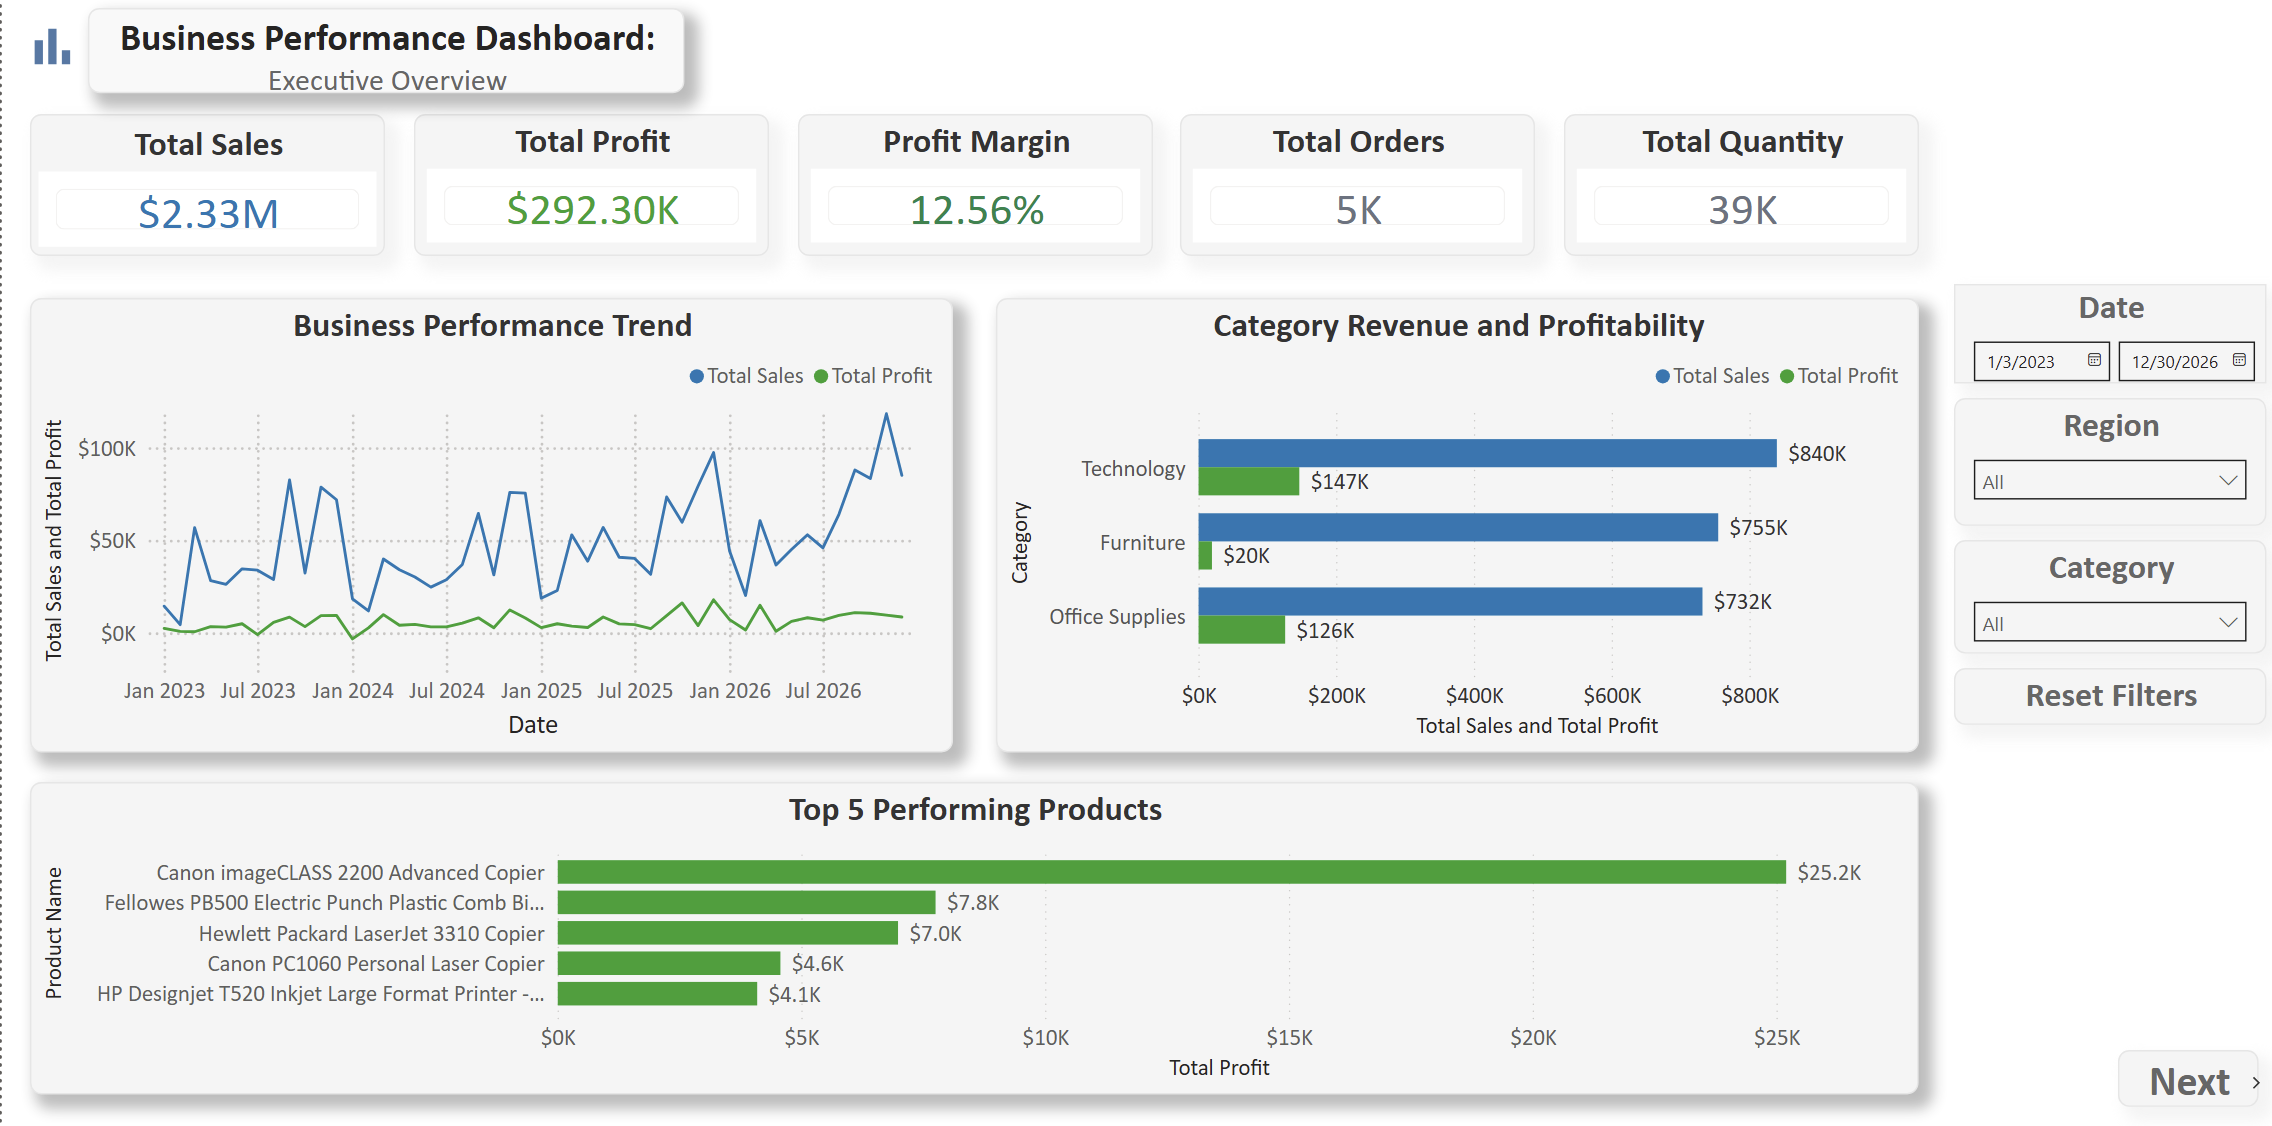

The dashboard page shown, as its layout file describes it:
{"tool":"powerbi","page":{"name":"Executive Overview","canvas":[1600,800],"ordinal":0},"visuals":[{"type":"cardVisual","title":"Total Sales","fields":{"Data":["samplesuperstore.Total Sales"]},"box":[20,80,250,100],"z":0},{"type":"cardVisual","title":"Total Profit","fields":{"Data":["samplesuperstore.Total Profit"]},"box":[290,80,250,100],"z":1000},{"type":"cardVisual","title":"Profit Margin","fields":{"Data":["samplesuperstore.Profit Margin"]},"box":[560,80,250,100],"z":2000},{"type":"cardVisual","title":"Total Orders","fields":{"Data":["samplesuperstore.Total Orders"]},"box":[830,80,250,100],"z":3000},{"type":"cardVisual","title":"Total Quantity","fields":{"Data":["samplesuperstore.Total Quantity"]},"box":[1100,80,250,100],"z":4000},{"type":"lineChart","title":"Business Performance Trend","fields":{"Y":["samplesuperstore.Total Sales","samplesuperstore.Total Profit"],"Category":["samplesuperstore.Order Date.Variation.Date Hierarchy.Year","samplesuperstore.Order Date.Variation.Date Hierarchy.Month"]},"box":[20,210,650,320],"z":5000},{"type":"clusteredBarChart","title":"Category Revenue and Profitability","fields":{"Category":["samplesuperstore.Category"],"Y":["samplesuperstore.Total Sales","samplesuperstore.Total Profit"]},"box":[700,210,650,320],"z":6000},{"type":"slicer","title":"Date","fields":{"Values":["samplesuperstore.Order Date"]},"box":[1375,200,220,70],"z":7000},{"type":"slicer","title":"Region","fields":{"Values":["samplesuperstore.Region"]},"box":[1375,280,220,90],"z":8000},{"type":"slicer","title":"Category","fields":{"Values":["samplesuperstore.Category"]},"box":[1375,380,220,80],"z":9000},{"type":"textbox","title":"Business Performance Dashboard:","box":[60,5,420,60],"z":10000},{"type":"actionButton","title":"Reset Filters","box":[1375,470,220,40],"z":11000},{"type":"clusteredBarChart","title":"Top 5 Performing Products","fields":{"Category":["samplesuperstore.Product Name"],"Y":["samplesuperstore.Total Profit"]},"box":[20,550,1330,220],"z":12000},{"type":"actionButton","title":"Next","box":[1490,740,99,40],"z":13000},{"type":"image","box":[15,12,40,40],"z":14000},{"type":"image","box":[1579,753,18,18],"z":15000}]}

Visuals, with their boxes in screenshot pixels (x1, y1, x2, y2), scaled from the page's 1600x800 canvas onto the 2272x1126 screenshot:
"Total Sales" cardVisual: <bbox>28, 113, 383, 253</bbox>
"Total Profit" cardVisual: <bbox>412, 113, 767, 253</bbox>
"Profit Margin" cardVisual: <bbox>795, 113, 1150, 253</bbox>
"Total Orders" cardVisual: <bbox>1179, 113, 1534, 253</bbox>
"Total Quantity" cardVisual: <bbox>1562, 113, 1917, 253</bbox>
"Business Performance Trend" lineChart: <bbox>28, 296, 951, 746</bbox>
"Category Revenue and Profitability" clusteredBarChart: <bbox>994, 296, 1917, 746</bbox>
"Date" slicer: <bbox>1952, 282, 2265, 380</bbox>
"Region" slicer: <bbox>1952, 394, 2265, 521</bbox>
"Category" slicer: <bbox>1952, 535, 2265, 647</bbox>
"Business Performance Dashboard:" textbox: <bbox>85, 7, 682, 91</bbox>
"Reset Filters" actionButton: <bbox>1952, 662, 2265, 718</bbox>
"Top 5 Performing Products" clusteredBarChart: <bbox>28, 774, 1917, 1084</bbox>
"Next" actionButton: <bbox>2116, 1042, 2256, 1098</bbox>
image: <bbox>21, 17, 78, 73</bbox>
image: <bbox>2242, 1060, 2268, 1085</bbox>
